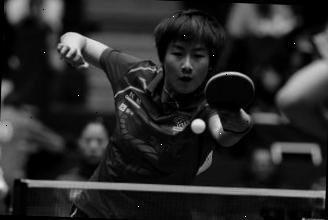ball: (187, 115, 207, 136)
